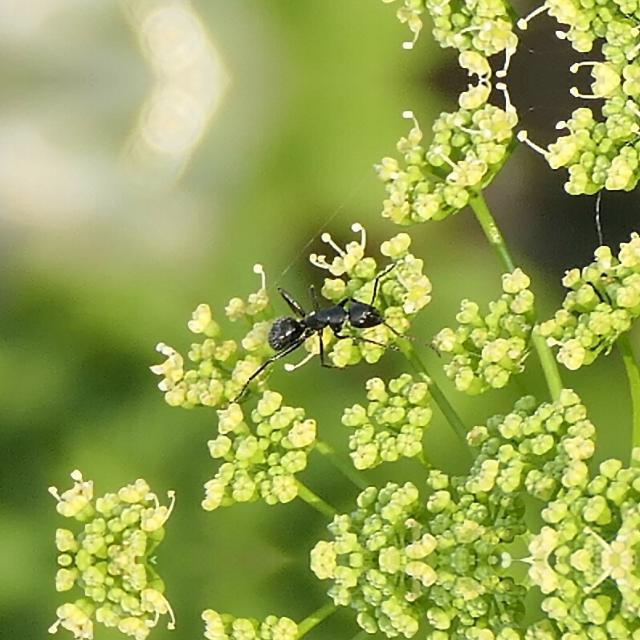Camponotus: (225, 262, 411, 381)
